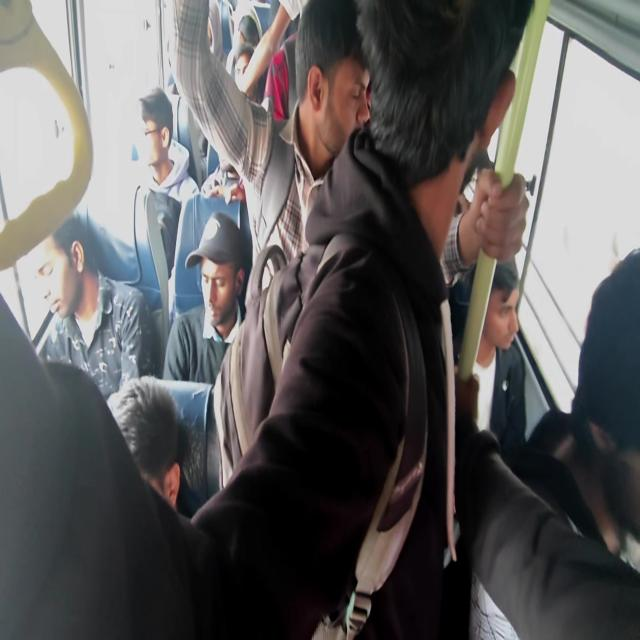person: (562, 250, 640, 565), (132, 179, 184, 356), (24, 222, 86, 348), (163, 378, 215, 509), (191, 228, 249, 340), (133, 92, 201, 186), (328, 51, 373, 160), (234, 0, 277, 83), (486, 283, 520, 355), (218, 0, 234, 60), (235, 63, 247, 73)
